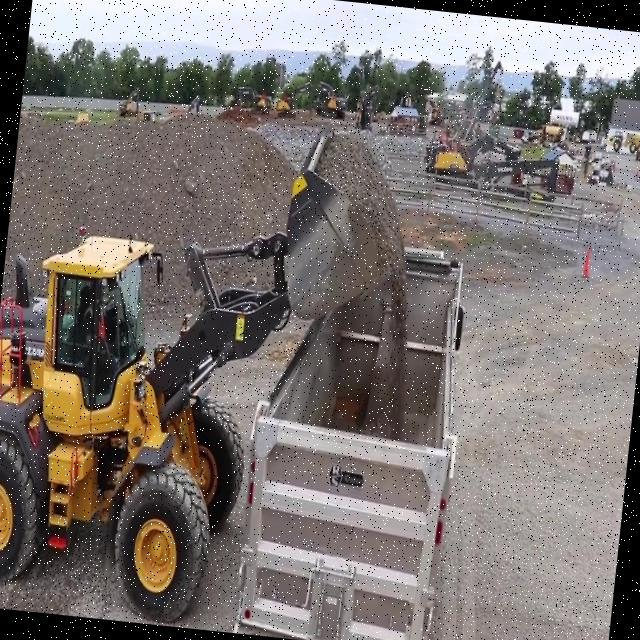Dump Truck: (228, 229, 476, 640)
Excavator: (422, 126, 523, 202), (274, 76, 314, 120), (311, 79, 350, 119), (234, 84, 274, 116), (117, 84, 139, 118)
Loader: (0, 92, 406, 640)
